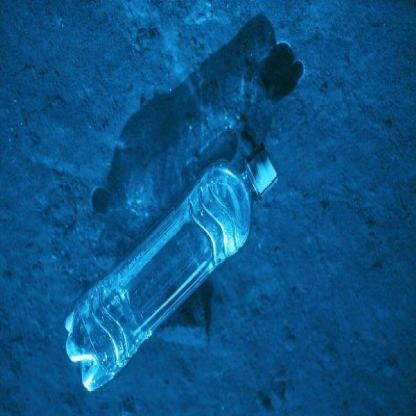pbottle: (58, 138, 286, 393)
